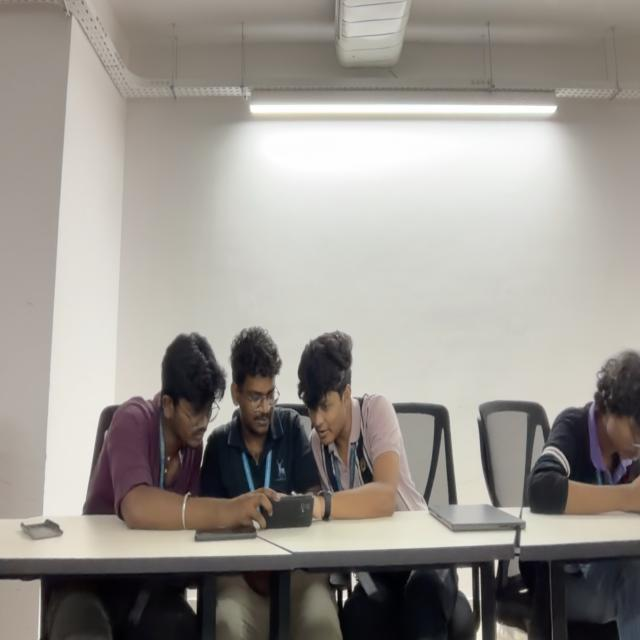Isolated: (527, 310, 640, 524)
socializing: (90, 316, 420, 540)
